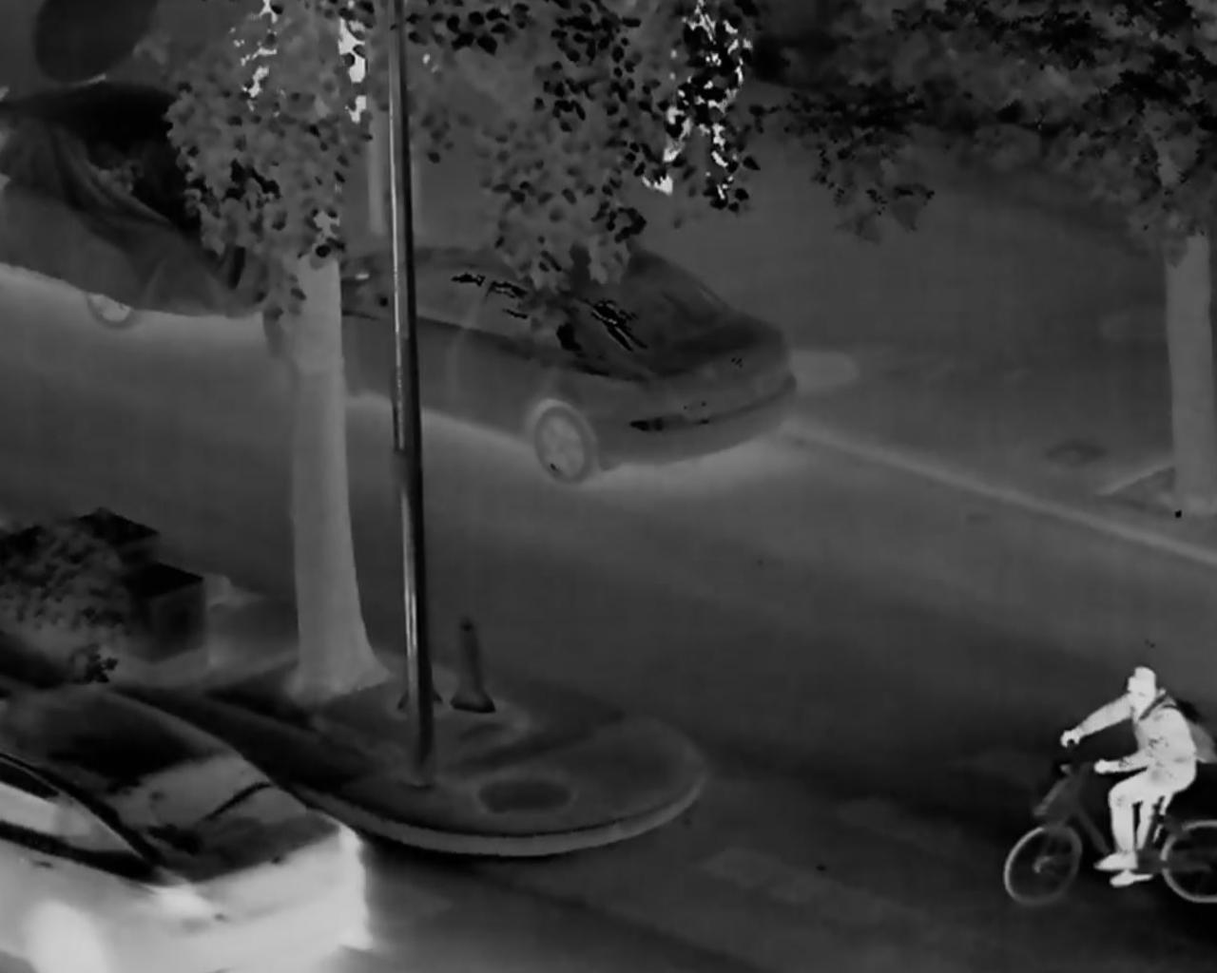person: (1059, 662, 1194, 888)
